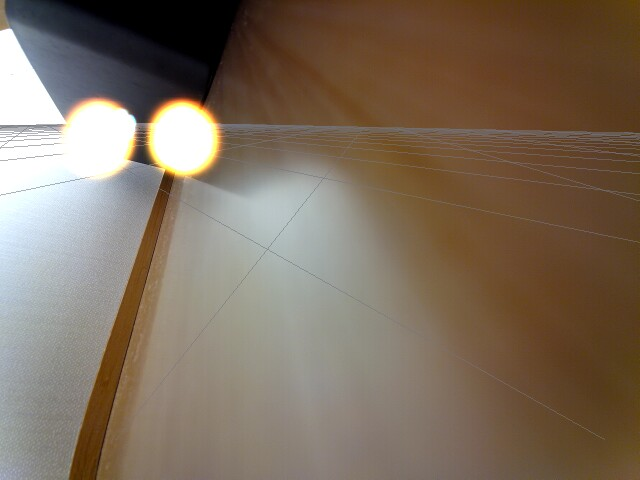firebig: (146, 86, 221, 189)
